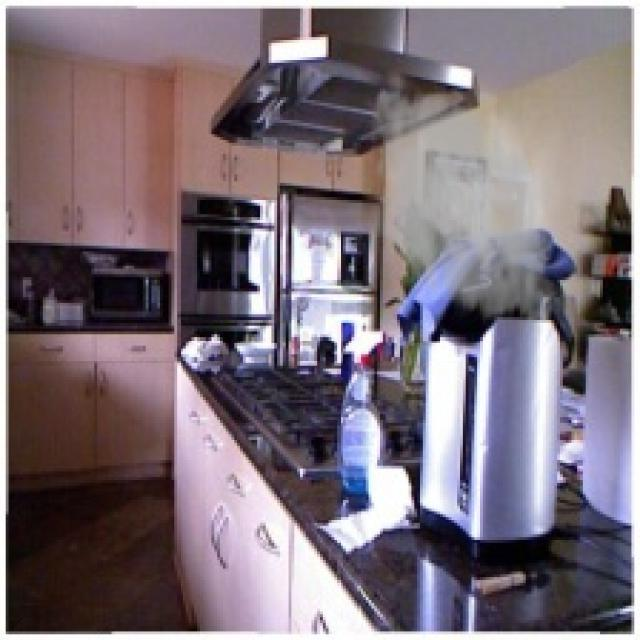Smoke: (352, 77, 572, 334)
